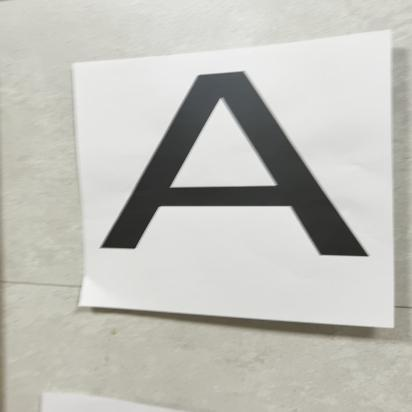seat: (94, 71, 390, 273)
